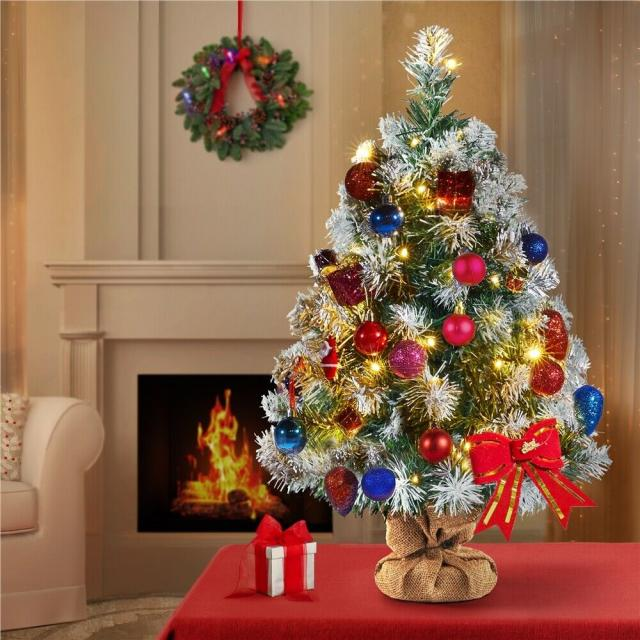Christmas-tree: (303, 22, 612, 520)
